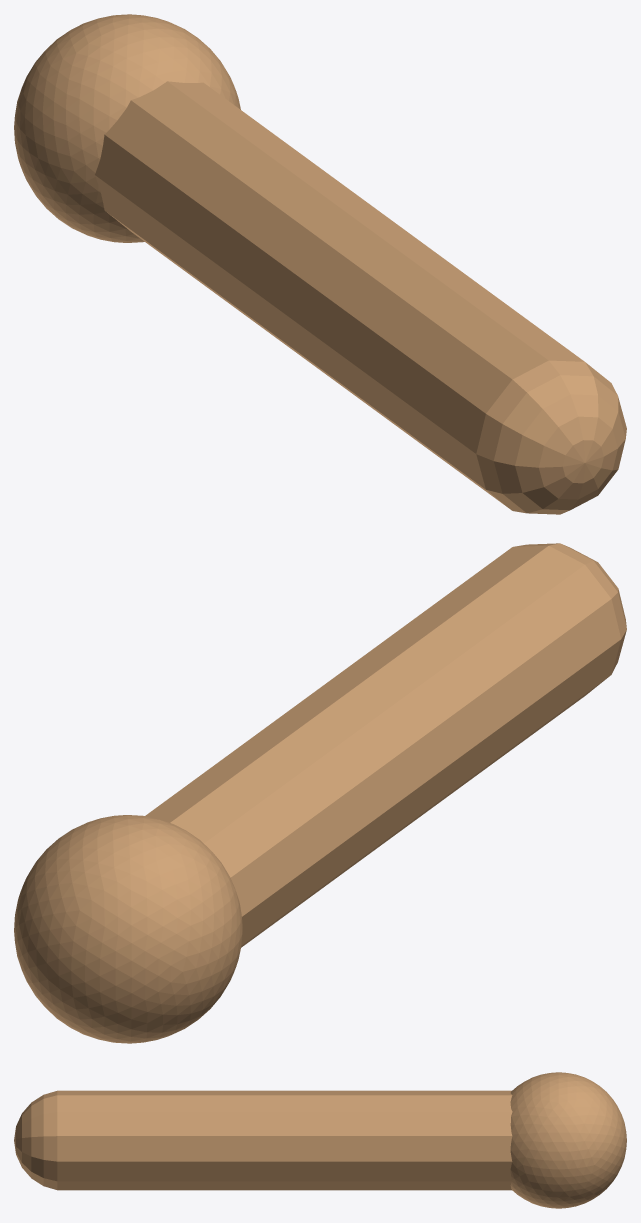
3 views of the same model, one above another, from view 1: azimuth 30°, elevation 25°; view 2: azimuth 150°, elevation 25°; view 3: azimuth 270°, elevation 25° (orthographic). The views are drawn at different scales.
Visible parts, largest first — view 1: world; view 2: world; view 3: world.
Part boxes in pixels (x1,y1,x2,y2): world: (14,14,626,514); world: (14,543,626,1043); world: (14,1072,626,1208).
Size of the model in its own units: 0.092 by 0.092 by 0.413.
